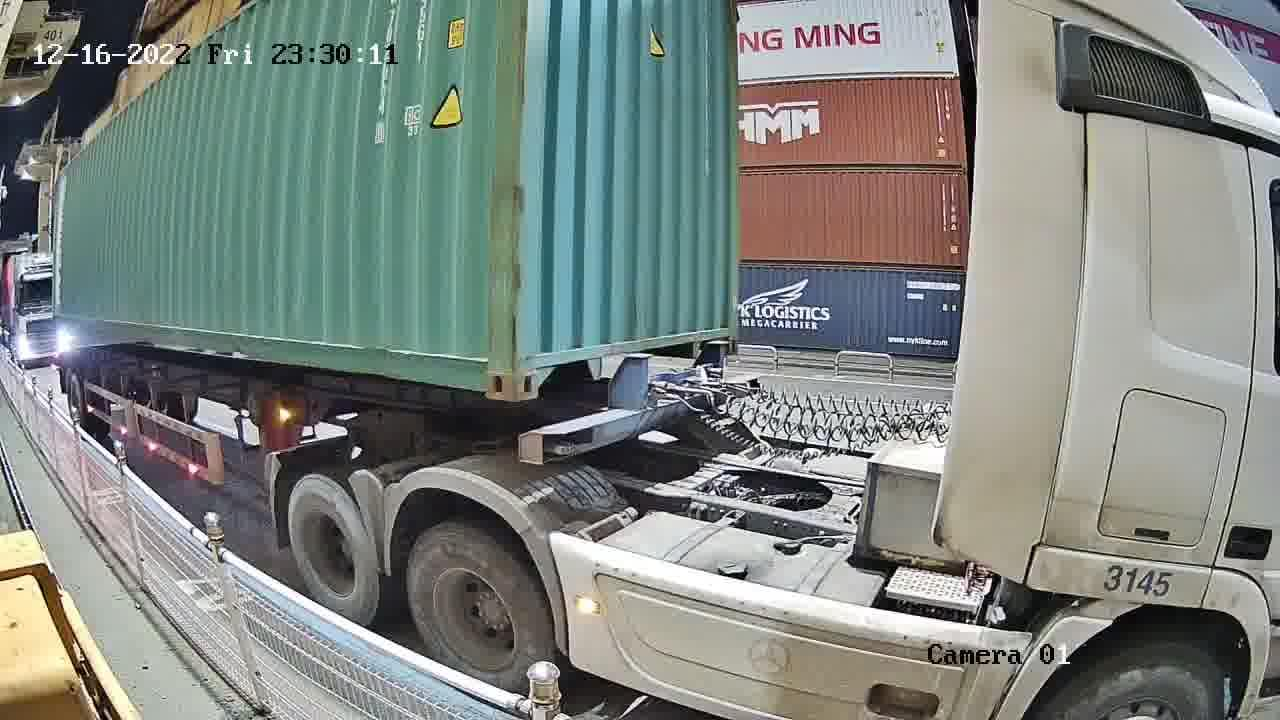Chassis: (518, 369, 764, 468)
Container: (518, 300, 743, 403)
Hole_L: (514, 330, 560, 403)
Hole_R: (461, 331, 515, 402), (704, 300, 742, 349)
Tire: (405, 528, 557, 692), (289, 479, 379, 627)
